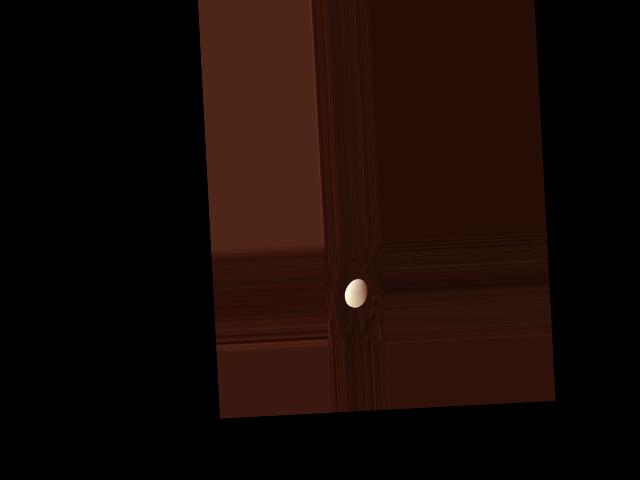egg: (344, 277, 368, 307)
